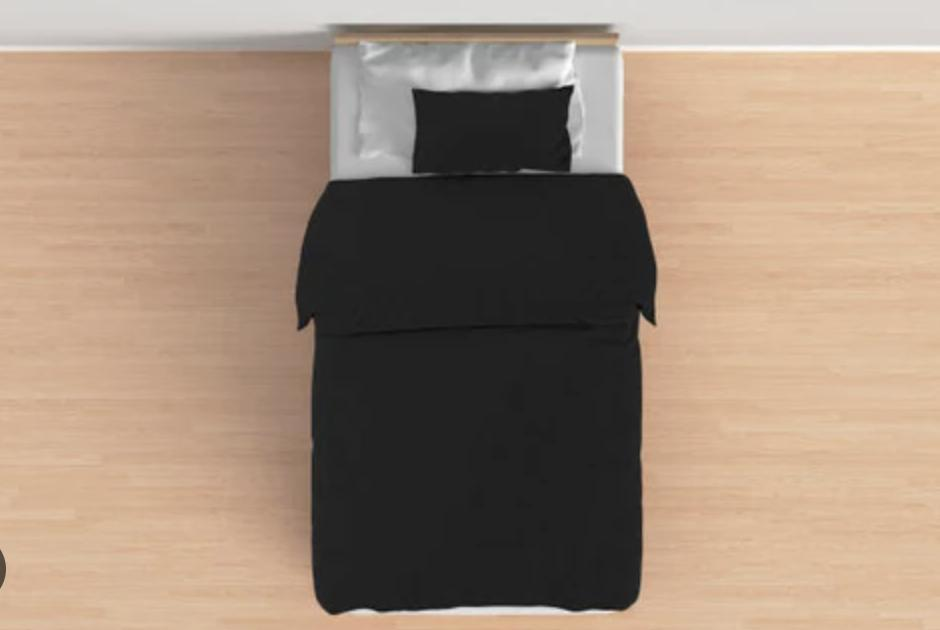Bed-Mattress: (318, 18, 646, 613)
